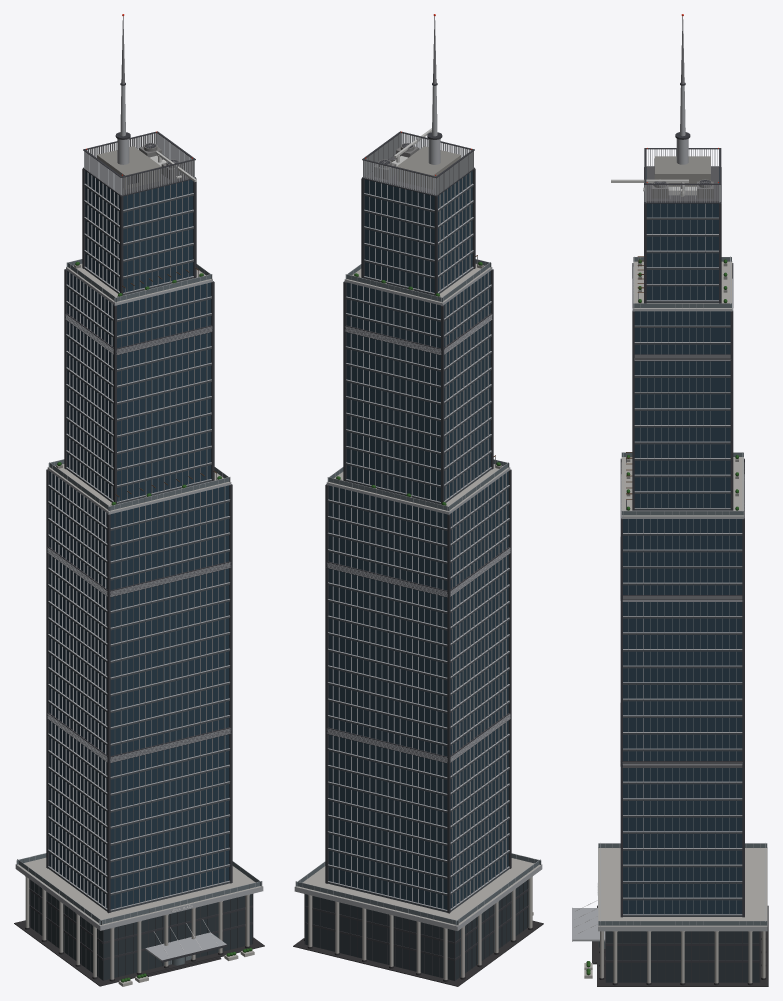
Rendered from gokdelen_cam.glb.
3 views of the same model, side by side, from view 1: azimuth 30°, elevation 25°; view 2: azimuth 150°, elevation 25°; view 3: azimuth 270°, elevation 25° (orthographic).
Parts seen in each view (by area): view 1: Gokdelen_Cam; view 2: Gokdelen_Cam; view 3: Gokdelen_Cam.
Part boxes in pixels (x1,y1,x2,y2): Gokdelen_Cam: [14, 14, 264, 986]; Gokdelen_Cam: [293, 14, 543, 986]; Gokdelen_Cam: [572, 14, 768, 986].
Size of the model in its own units: 40.6 by 217 by 41.85.
